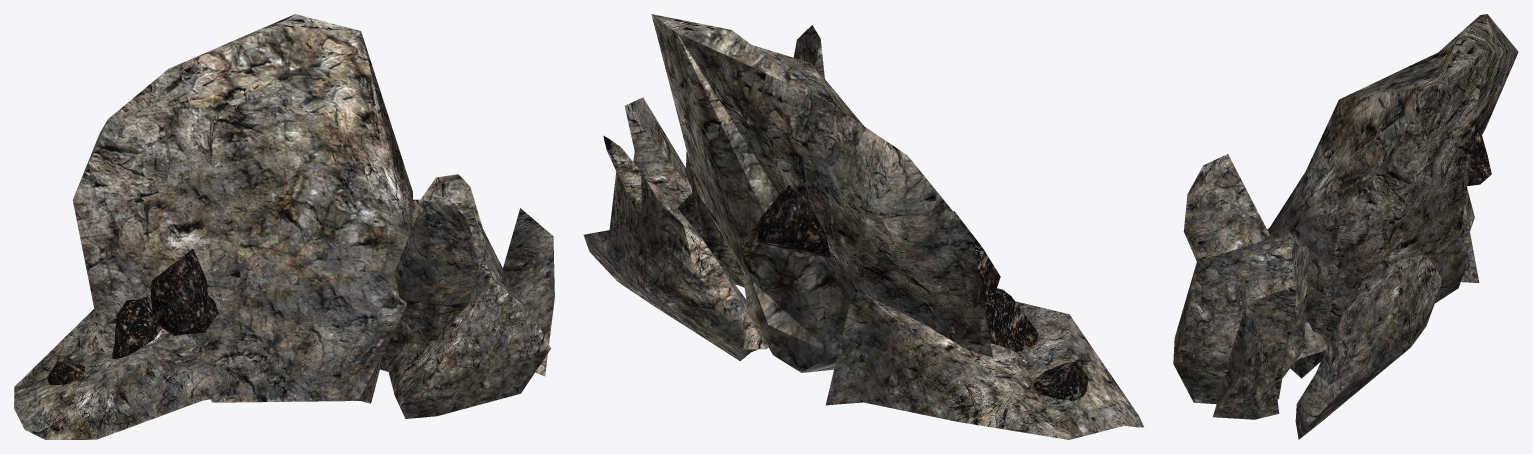
Rendered from pir_m_prp_cav_rockGroupIron_d.fbx.
3 views of the same model, side by side, from view 1: azimuth 30°, elevation 25°; view 2: azimuth 150°, elevation 25°; view 3: azimuth 270°, elevation 25° (orthographic). The views are drawn at different scales.
Visible parts, largest first — view 1: rock_2, rock_4, rock_1, rock_3, rock_5, rock_6, rock_13, rock_0, lod_high.001; view 2: rock_2, rock_4, rock_0, rock_5, rock_17, rock_13, rock_1, lod_high.001, rock_3, rock_6; view 3: rock_2, rock_1, rock_0, rock_5, rock_3, rock_17, rock_4.
Part boxes in pixels (bbox=[...]): rock_2: bbox=[72, 14, 412, 403]; rock_4: bbox=[14, 309, 239, 439]; rock_1: bbox=[385, 209, 550, 418]; rock_3: bbox=[379, 200, 478, 371]; rock_5: bbox=[503, 208, 554, 376]; rock_6: bbox=[150, 249, 218, 335]; rock_13: bbox=[112, 296, 161, 359]; rock_0: bbox=[413, 174, 482, 226]; lod_high.001: bbox=[47, 361, 85, 385]; rock_2: bbox=[651, 14, 993, 372]; rock_4: bbox=[826, 288, 1143, 439]; rock_0: bbox=[583, 136, 768, 360]; rock_5: bbox=[624, 97, 692, 207]; rock_17: bbox=[757, 184, 830, 256]; rock_13: bbox=[981, 284, 1038, 352]; rock_1: bbox=[678, 151, 744, 287]; lod_high.001: bbox=[1033, 361, 1088, 401]; rock_3: bbox=[793, 25, 824, 78]; rock_6: bbox=[953, 211, 1000, 287]; rock_2: bbox=[1263, 14, 1518, 378]; rock_1: bbox=[1173, 232, 1308, 404]; rock_0: bbox=[1295, 254, 1442, 439]; rock_5: bbox=[1213, 285, 1296, 419]; rock_3: bbox=[1183, 154, 1327, 359]; rock_17: bbox=[1467, 120, 1491, 185]; rock_4: bbox=[1460, 188, 1479, 282].
Bounding box in the file's own units: 9520 × 6061 × 5648.
2 materials, 2 textured.
